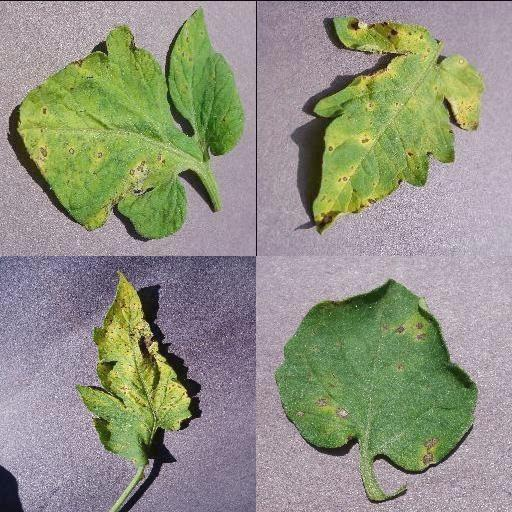Septoria: (277, 278, 480, 472), (307, 14, 481, 232), (17, 25, 189, 240), (80, 271, 192, 473), (167, 6, 247, 156)
